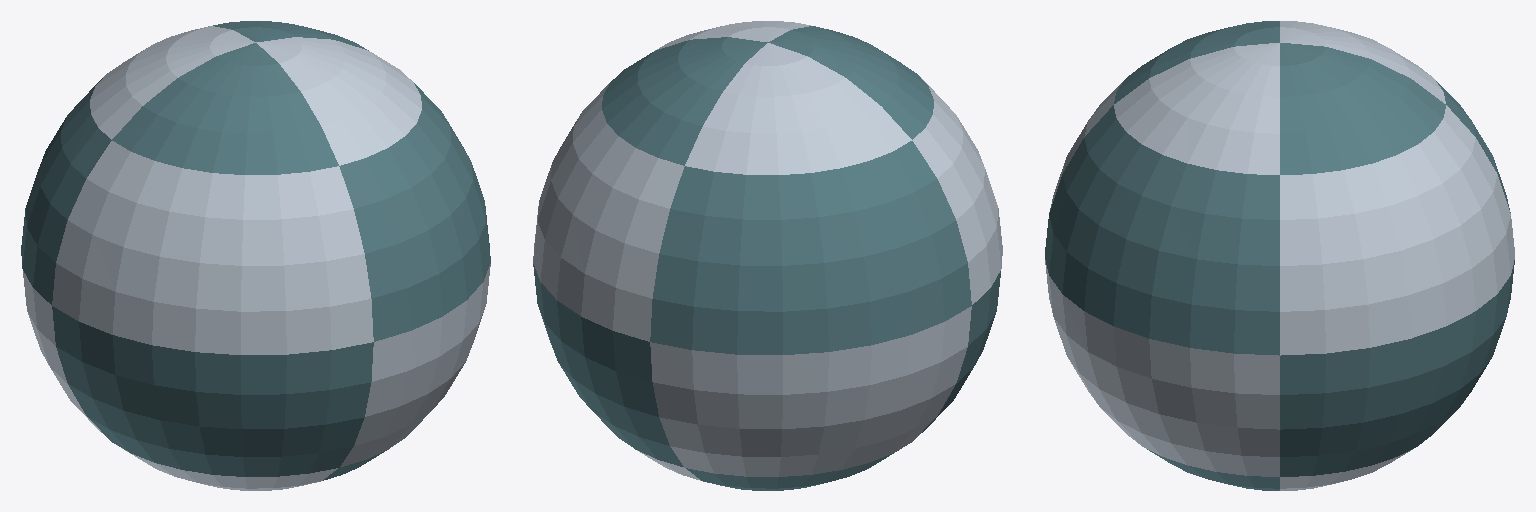
The picture shows the model from 3 angles: view 1: azimuth 30°, elevation 25°; view 2: azimuth 150°, elevation 25°; view 3: azimuth 270°, elevation 25°; orthographic projection.
Visible parts, largest first — view 1: Sphere001; view 2: Sphere001; view 3: Sphere001.
Part boxes in pixels (x1,y1,x2,y2): Sphere001: (21, 21, 490, 490); Sphere001: (533, 21, 1002, 490); Sphere001: (1045, 21, 1514, 490).
Bounding box in the file's own units: 2 × 2 × 2.
1 materials, 1 textured.